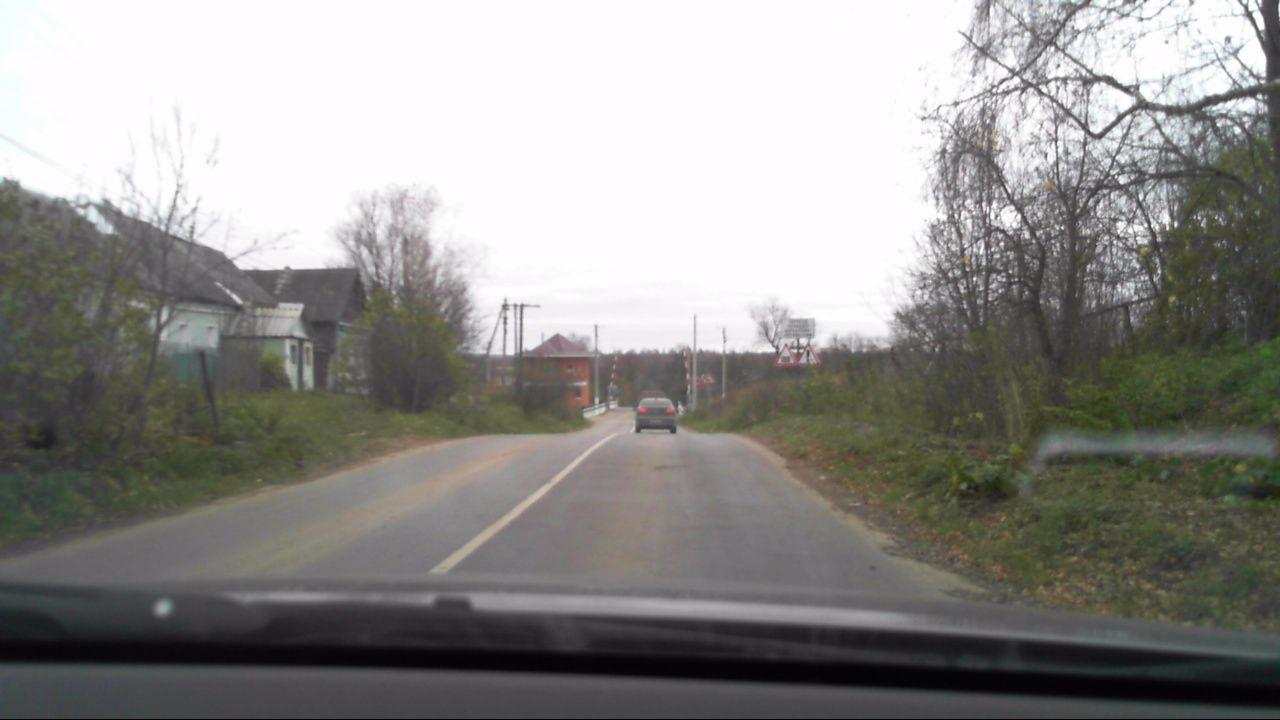1_1: (776, 343, 796, 365)
1_33: (798, 343, 820, 365)
